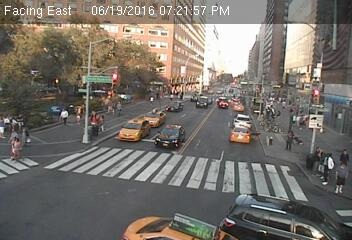neg: (140, 119, 162, 148), (66, 32, 88, 61), (113, 160, 131, 184), (30, 66, 46, 88), (71, 154, 87, 175), (247, 10, 263, 31), (295, 25, 311, 46), (175, 135, 190, 154), (166, 25, 181, 44), (181, 168, 195, 187), (117, 51, 131, 70), (155, 198, 169, 216), (71, 208, 84, 225), (258, 64, 271, 81), (232, 44, 245, 61), (126, 17, 139, 34), (29, 34, 41, 51), (216, 203, 227, 217), (219, 84, 230, 98), (230, 171, 240, 184), (52, 170, 62, 183)
pos: (300, 139, 336, 186), (84, 105, 108, 137), (328, 162, 351, 194), (280, 127, 299, 151), (71, 100, 88, 124), (112, 98, 128, 120), (5, 129, 20, 149), (10, 137, 25, 156), (19, 124, 33, 143), (57, 106, 71, 124), (104, 97, 118, 115), (337, 144, 350, 162), (148, 96, 154, 104)
